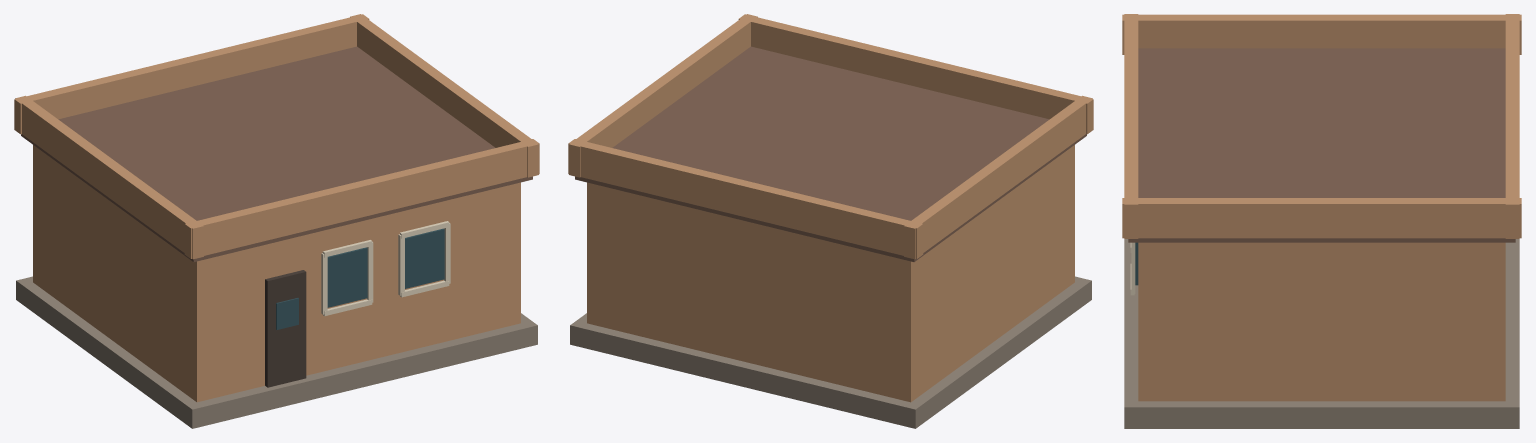
The model's file is arizona-adobe-house_lod0.glb.
3 views of the same model, side by side, from view 1: azimuth 30°, elevation 25°; view 2: azimuth 150°, elevation 25°; view 3: azimuth 270°, elevation 25° (orthographic). The views are drawn at different scales.
Parts seen in each view (by area): view 1: RF_AZ_Adobe_Walls, RF_AZ_Adobe_Roof, RF_AZ_Adobe_Foundation, RF_AZ_Adobe_Parapet.002, RF_AZ_Adobe_Parapet.003, RF_AZ_Adobe_Parapet, RF_AZ_Adobe_Parapet.001, RF_AZ_Adobe_Door, RF_AZ_Adobe_Window, RF_AZ_Adobe_Window.001, RF_AZ_Adobe_DoorGlass; view 2: RF_AZ_Adobe_Walls, RF_AZ_Adobe_Roof, RF_AZ_Adobe_Foundation, RF_AZ_Adobe_Parapet.003, RF_AZ_Adobe_Parapet.002, RF_AZ_Adobe_Parapet, RF_AZ_Adobe_Parapet.001; view 3: RF_AZ_Adobe_Walls, RF_AZ_Adobe_Roof, RF_AZ_Adobe_Foundation, RF_AZ_Adobe_Parapet.001, RF_AZ_Adobe_Parapet, RF_AZ_Adobe_Parapet.002, RF_AZ_Adobe_Parapet.003.
Part boxes in pixels (bbox=[...]): RF_AZ_Adobe_Walls: bbox=[33, 145, 520, 402]; RF_AZ_Adobe_Roof: bbox=[21, 46, 532, 261]; RF_AZ_Adobe_Foundation: bbox=[16, 276, 537, 428]; RF_AZ_Adobe_Parapet.002: bbox=[184, 139, 539, 258]; RF_AZ_Adobe_Parapet.003: bbox=[14, 14, 369, 134]; RF_AZ_Adobe_Parapet: bbox=[15, 95, 203, 259]; RF_AZ_Adobe_Parapet.001: bbox=[350, 14, 538, 177]; RF_AZ_Adobe_Door: bbox=[265, 270, 306, 387]; RF_AZ_Adobe_Window: bbox=[327, 247, 367, 307]; RF_AZ_Adobe_Window.001: bbox=[405, 228, 444, 288]; RF_AZ_Adobe_DoorGlass: bbox=[276, 298, 298, 329]; RF_AZ_Adobe_Walls: bbox=[587, 145, 1074, 402]; RF_AZ_Adobe_Roof: bbox=[575, 46, 1086, 261]; RF_AZ_Adobe_Foundation: bbox=[570, 276, 1091, 428]; RF_AZ_Adobe_Parapet.003: bbox=[568, 139, 923, 258]; RF_AZ_Adobe_Parapet.002: bbox=[738, 14, 1093, 134]; RF_AZ_Adobe_Parapet: bbox=[904, 95, 1092, 259]; RF_AZ_Adobe_Parapet.001: bbox=[569, 14, 757, 177]; RF_AZ_Adobe_Walls: bbox=[1138, 242, 1505, 401]; RF_AZ_Adobe_Roof: bbox=[1128, 48, 1515, 242]; RF_AZ_Adobe_Foundation: bbox=[1124, 239, 1519, 428]; RF_AZ_Adobe_Parapet.001: bbox=[1122, 198, 1521, 238]; RF_AZ_Adobe_Parapet: bbox=[1122, 14, 1521, 54]; RF_AZ_Adobe_Parapet.002: bbox=[1124, 14, 1138, 238]; RF_AZ_Adobe_Parapet.003: bbox=[1505, 14, 1519, 238].
Size of the model in its own units: 11.3 by 6.22 by 10.
